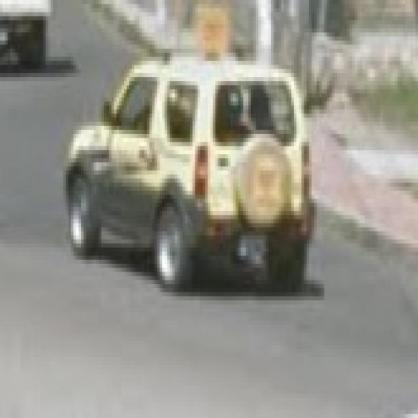car: (60, 58, 314, 292)
